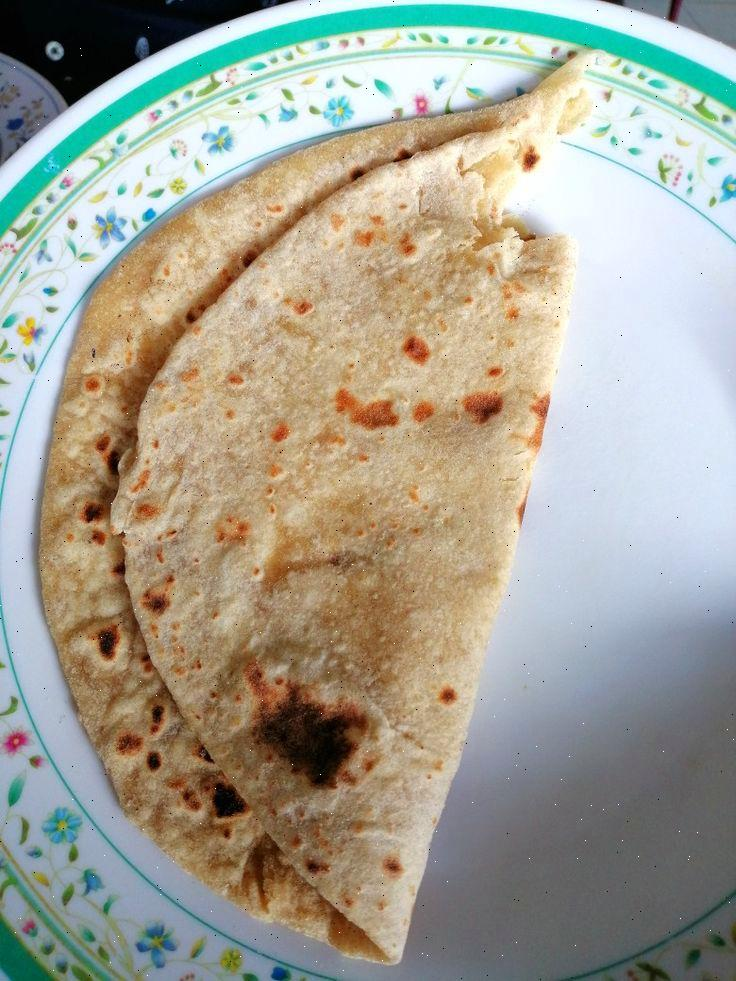roti phulka: (31, 43, 628, 973)
